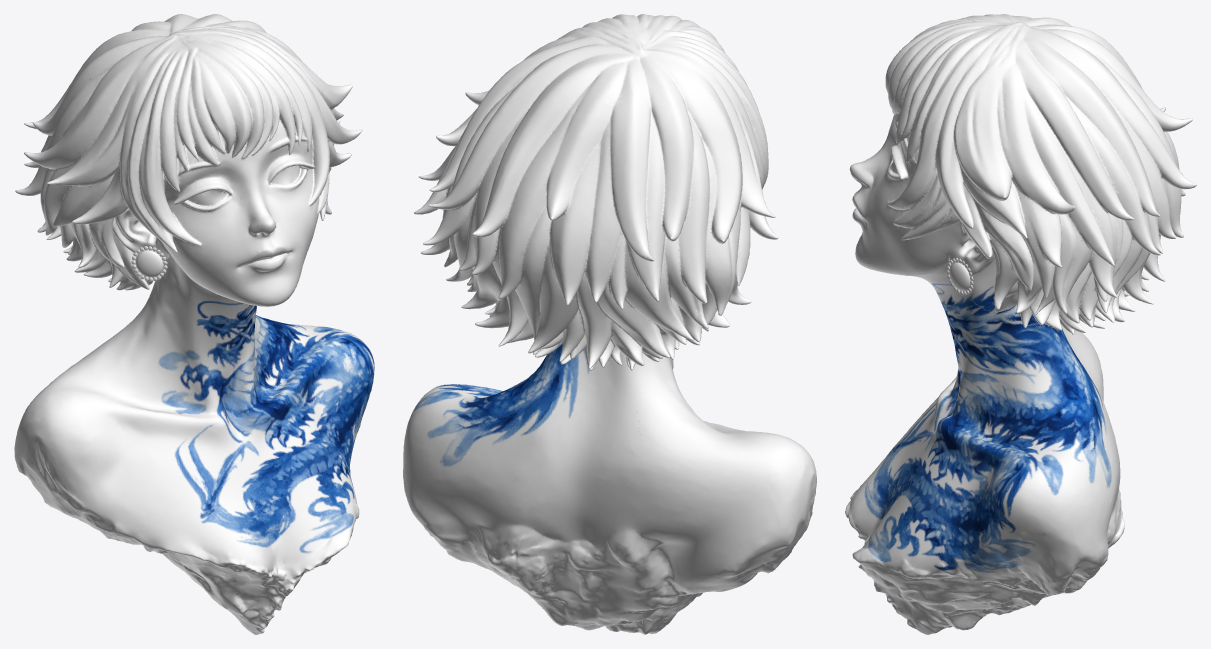
Rendered from porcelain_girl_2_opt.glb.
3 views of the same model, side by side, from view 1: azimuth 30°, elevation 25°; view 2: azimuth 150°, elevation 25°; view 3: azimuth 270°, elevation 25° (orthographic). The views are drawn at different scales.
Visible parts, largest first — view 1: object 97, Hollow Sphere; view 2: object 97; view 3: object 97.
Part boxes in pixels (box(x1,y1,x2,y2)): object 97: box(14, 14, 374, 634); Hollow Sphere: box(136, 250, 162, 277); object 97: box(403, 14, 816, 634); object 97: box(845, 14, 1196, 634).
Bounding box in the file's own units: 0.012 × 0.019 × 0.0101.
2 materials, 1 textured.
